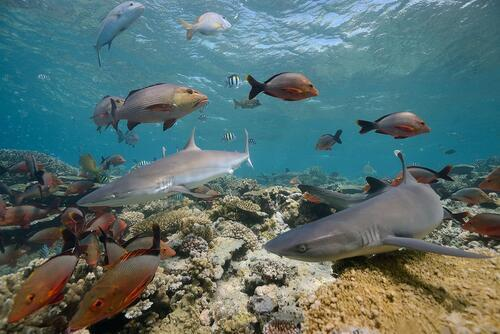shark: (264, 149, 493, 262), (76, 126, 254, 207)
